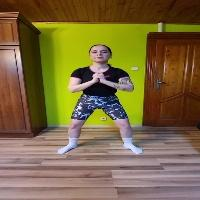squats: (54, 37, 151, 161)
